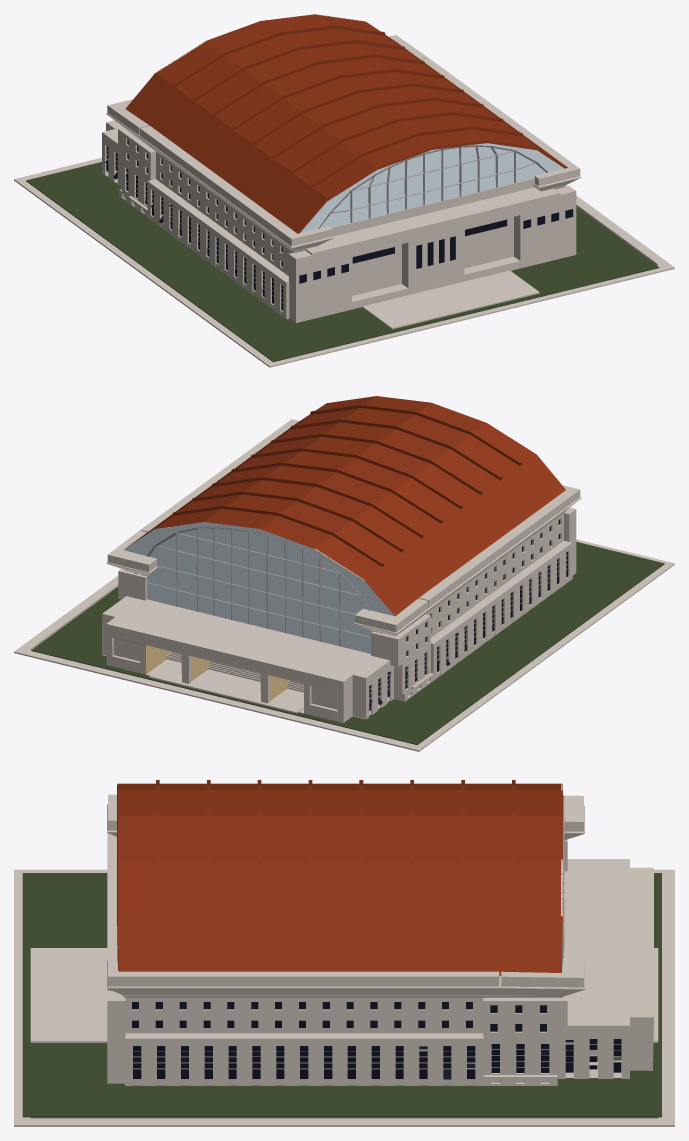
Rendered from 2.Swimming Pool.fbx.
3 views of the same model, one above another, from view 1: azimuth 30°, elevation 25°; view 2: azimuth 150°, elevation 25°; view 3: azimuth 270°, elevation 25° (orthographic). The views are drawn at different scales.
Parts seen in each view (by area): view 1: Roof, Base.002, Main Back, Main, Base, Roof Light, Windows, Roof Rim, Main Front.001; view 2: Roof, Main, Base.002, Roof Light, Main Front.001, Base, Roof Rim, Windows, Main Front L, Stairs, Main Back; view 3: Roof, Main, Base.002, Base, Main Front.001, Windows, Main Back.
Part boxes in pixels (x1=…): Roof: x1=125, y1=14, x2=567, y2=234; Base.002: x1=26, y1=162, x2=659, y2=362; Main Back: x1=289, y1=185, x2=576, y2=322; Main: x1=106, y1=35, x2=581, y2=319; Base: x1=14, y1=157, x2=674, y2=367; Roof Light: x1=300, y1=143, x2=564, y2=232; Windows: x1=105, y1=139, x2=572, y2=310; Roof Rim: x1=318, y1=145, x2=548, y2=229; Main Front.001: x1=102, y1=120, x2=123, y2=187; Roof: x1=126, y1=396, x2=565, y2=616; Main: x1=106, y1=419, x2=581, y2=701; Base.002: x1=31, y1=542, x2=664, y2=744; Roof Light: x1=124, y1=522, x2=394, y2=653; Main Front.001: x1=102, y1=596, x2=393, y2=722; Base: x1=14, y1=539, x2=674, y2=751; Roof Rim: x1=135, y1=527, x2=381, y2=646; Windows: x1=369, y1=519, x2=568, y2=710; Main Front L: x1=146, y1=645, x2=289, y2=700; Stairs: x1=165, y1=651, x2=303, y2=692; Main Back: x1=564, y1=507, x2=576, y2=575; Roof: x1=117, y1=780, x2=562, y2=976; Main: x1=107, y1=794, x2=584, y2=1085; Base.002: x1=22, y1=873, x2=661, y2=1117; Base: x1=14, y1=869, x2=674, y2=1126; Main Front.001: x1=557, y1=859, x2=653, y2=1078; Windows: x1=132, y1=1002, x2=621, y2=1079; Main Back: x1=107, y1=833, x2=125, y2=1083.
Size of the model in its own units: 7338 by 2502 by 8022.
